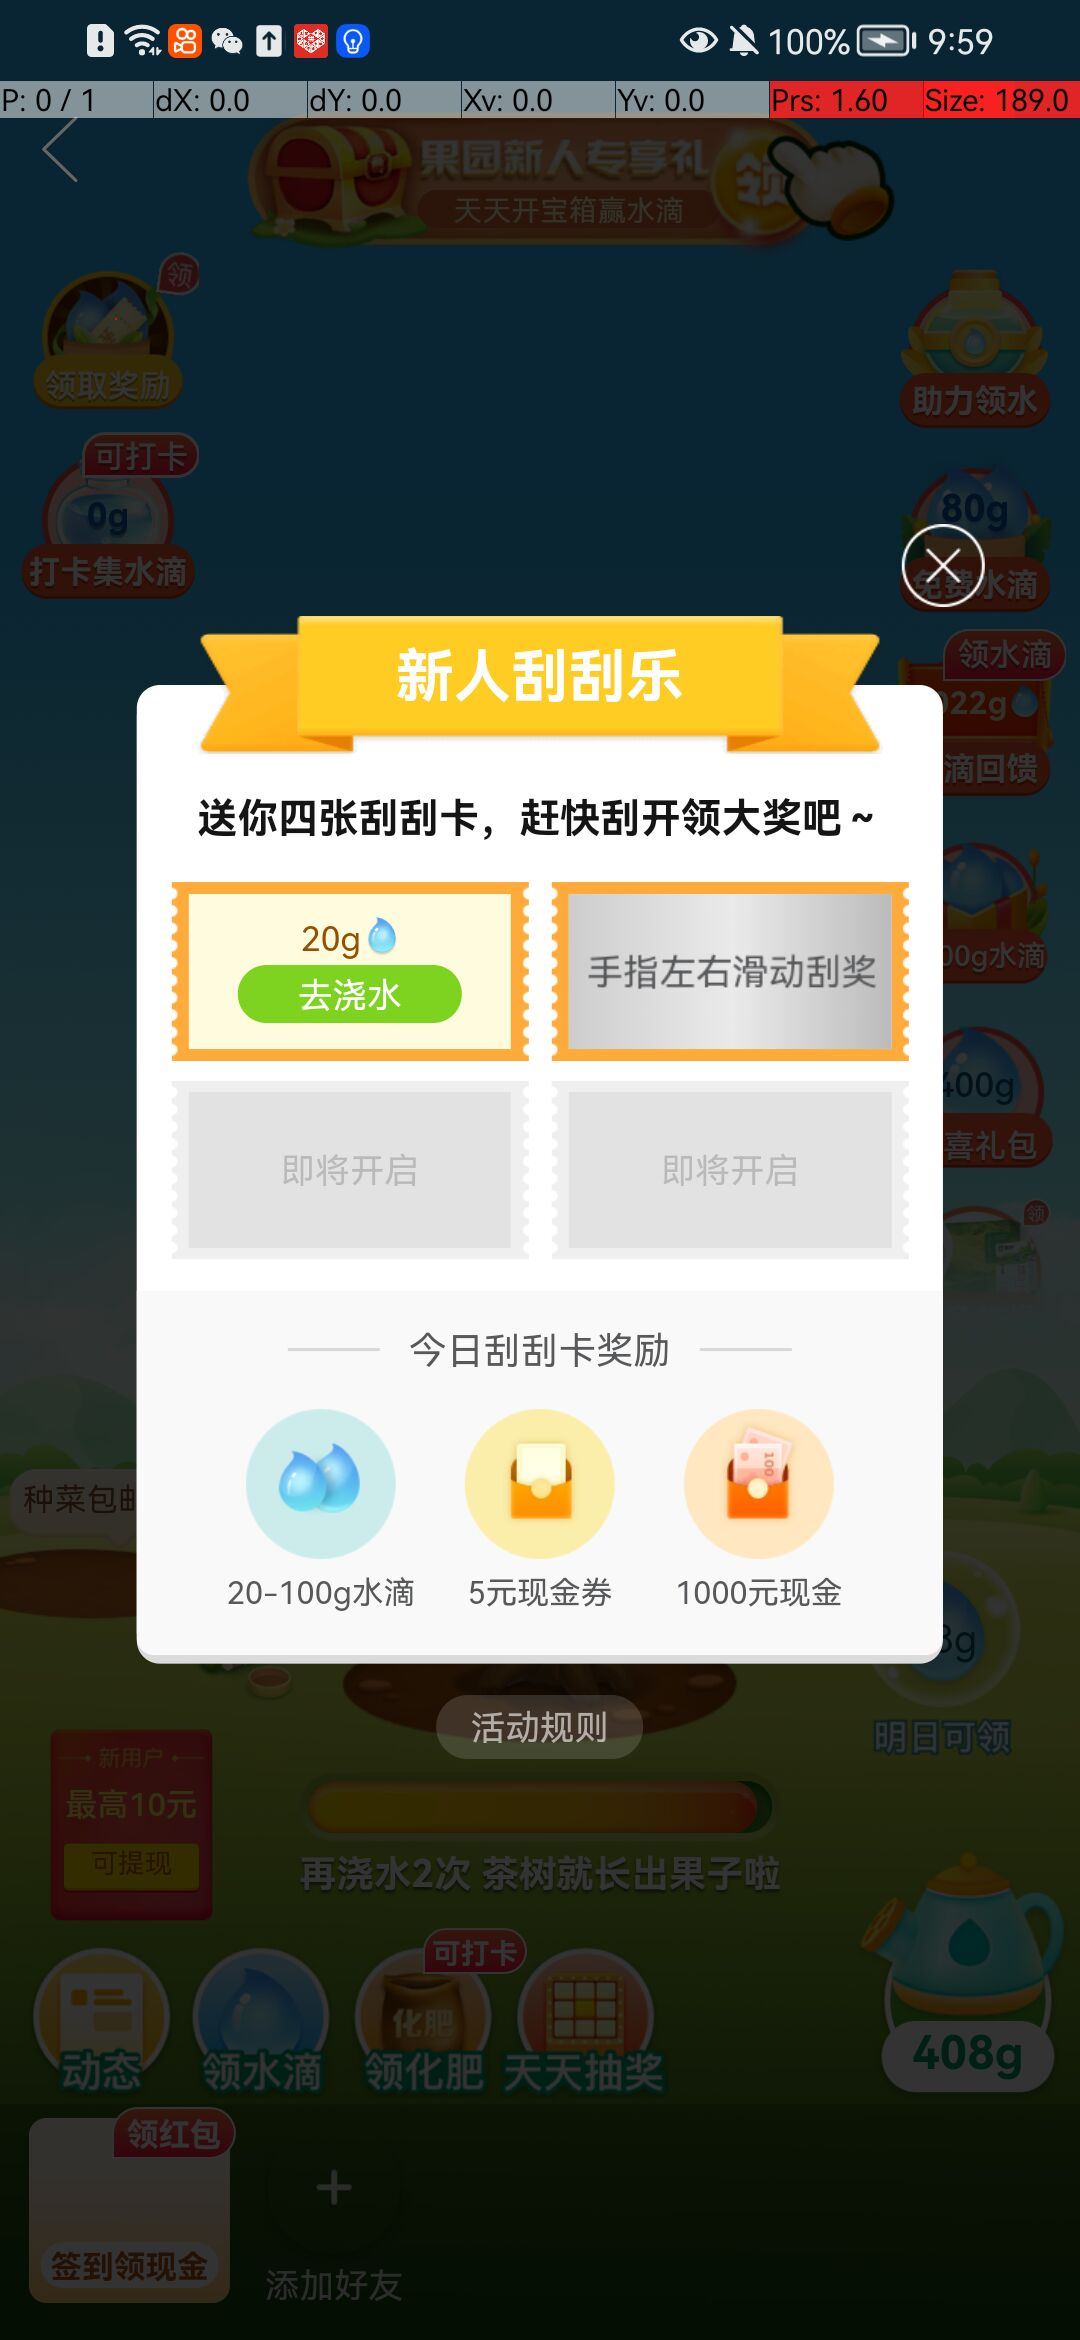popup: (902, 531, 988, 604)
